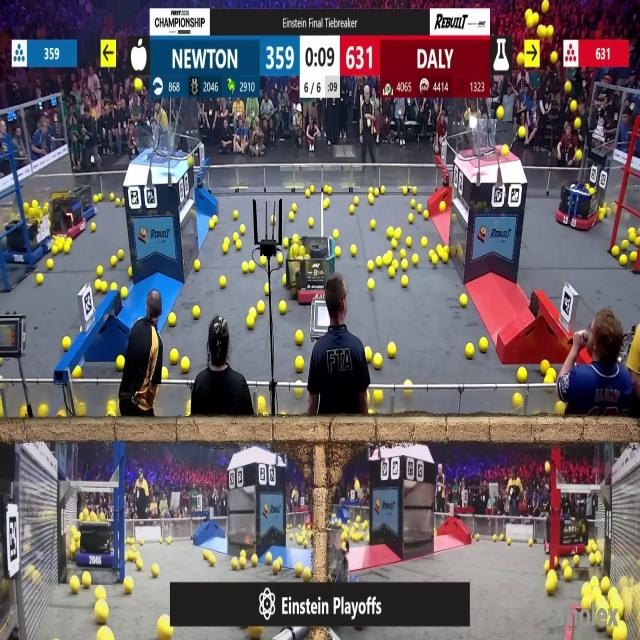ball_airborne: (528, 57, 538, 69), (496, 106, 504, 120), (538, 26, 546, 39), (565, 80, 572, 94), (532, 12, 540, 24), (541, 0, 548, 13), (526, 17, 533, 30), (500, 145, 508, 156), (135, 78, 142, 90), (553, 53, 559, 66), (573, 117, 580, 128), (570, 101, 577, 112), (519, 128, 526, 139), (518, 54, 524, 66), (546, 26, 552, 38), (575, 149, 581, 160), (544, 461, 550, 472)
ball_ground: (159, 617, 173, 640), (96, 604, 109, 626), (545, 576, 555, 597), (250, 626, 262, 640), (70, 578, 80, 594), (180, 356, 189, 372), (125, 579, 134, 595), (98, 628, 110, 640), (257, 396, 265, 414), (518, 367, 528, 381), (514, 393, 524, 407), (465, 344, 474, 359), (38, 406, 48, 419), (580, 595, 590, 608), (374, 354, 383, 368), (374, 389, 383, 403), (601, 580, 610, 594), (294, 356, 302, 371), (116, 355, 124, 370), (82, 572, 90, 587), (557, 403, 565, 418), (97, 587, 106, 600), (191, 306, 199, 320), (63, 338, 71, 352), (274, 559, 282, 573), (388, 344, 396, 358), (171, 350, 179, 363), (383, 253, 392, 264), (76, 407, 85, 418), (295, 332, 302, 346), (169, 313, 176, 327), (481, 339, 488, 353), (151, 564, 159, 576), (564, 568, 572, 580), (547, 367, 555, 379), (247, 316, 254, 329), (460, 293, 467, 306), (294, 563, 301, 576), (74, 365, 82, 376), (400, 276, 408, 287), (561, 558, 569, 569), (257, 302, 264, 314), (120, 286, 127, 298), (36, 274, 43, 286), (364, 348, 371, 360), (304, 568, 311, 580), (629, 231, 636, 243), (276, 253, 284, 263), (630, 252, 638, 262), (18, 410, 26, 420), (128, 552, 136, 562), (289, 246, 297, 256), (280, 302, 286, 315), (621, 254, 628, 265), (64, 243, 71, 254), (388, 268, 395, 279), (110, 255, 117, 266), (540, 360, 547, 371), (101, 282, 108, 293), (163, 366, 169, 378), (233, 558, 239, 570), (267, 553, 273, 565), (240, 557, 246, 569), (388, 228, 394, 240), (622, 241, 630, 250), (59, 411, 67, 420), (259, 255, 266, 265), (46, 261, 53, 271), (400, 262, 407, 272), (611, 246, 618, 256), (421, 238, 428, 248), (394, 229, 401, 239), (572, 556, 579, 566), (589, 556, 596, 566), (220, 277, 226, 288), (252, 555, 258, 566), (413, 253, 419, 264), (98, 267, 104, 278), (282, 275, 288, 286), (331, 231, 338, 240), (391, 262, 398, 271), (324, 185, 331, 194), (193, 262, 199, 272), (243, 264, 249, 274), (336, 247, 342, 257), (323, 200, 329, 210), (441, 202, 447, 212), (137, 560, 143, 570), (431, 254, 437, 264), (369, 219, 375, 229), (407, 238, 413, 248), (309, 217, 315, 227), (391, 239, 397, 249), (209, 556, 215, 566), (117, 250, 123, 260), (292, 235, 298, 245), (348, 206, 355, 214), (294, 388, 301, 396), (364, 536, 371, 544), (351, 245, 356, 256), (367, 279, 372, 290), (367, 262, 372, 273), (377, 256, 382, 267), (96, 280, 101, 291), (92, 222, 98, 231), (284, 239, 290, 248), (288, 212, 294, 221), (399, 249, 405, 258), (51, 246, 57, 255), (353, 533, 359, 542), (249, 263, 254, 273), (222, 244, 227, 254), (129, 268, 134, 278), (234, 210, 239, 220), (108, 192, 115, 199), (110, 283, 116, 291), (543, 376, 549, 384), (212, 216, 218, 224), (249, 308, 255, 316), (402, 186, 408, 194), (296, 536, 302, 544), (98, 192, 104, 200), (123, 554, 129, 562), (237, 241, 242, 250), (444, 253, 449, 262), (241, 224, 246, 233), (234, 233, 239, 242), (554, 558, 559, 567), (205, 551, 210, 560), (363, 521, 368, 530), (222, 238, 228, 245), (492, 534, 498, 541), (598, 214, 604, 221), (443, 245, 449, 252), (407, 380, 413, 387), (130, 537, 136, 544), (266, 284, 270, 294), (544, 560, 548, 570), (354, 198, 359, 206), (368, 196, 372, 206), (436, 243, 441, 251), (413, 186, 418, 194), (635, 239, 640, 247), (410, 214, 414, 223), (424, 211, 428, 220), (240, 551, 246, 557), (306, 190, 311, 197), (506, 537, 511, 544), (291, 205, 296, 212), (474, 533, 479, 540), (381, 187, 386, 194), (499, 534, 504, 541), (376, 188, 381, 195), (529, 538, 533, 546), (418, 205, 422, 213), (412, 201, 416, 209), (0, 358, 4, 366), (168, 536, 172, 544), (356, 514, 360, 522), (140, 539, 145, 545), (116, 200, 120, 207), (210, 221, 214, 228), (367, 185, 371, 192), (368, 411, 372, 417), (289, 534, 293, 540), (161, 537, 165, 543)
goal: (465, 120, 523, 160), (128, 129, 188, 160)
robot_blue: (4, 204, 55, 268), (76, 513, 116, 567), (340, 478, 369, 511)
robot_red: (289, 240, 335, 304), (50, 188, 96, 238), (556, 179, 600, 231), (560, 516, 590, 556), (0, 574, 8, 636)
